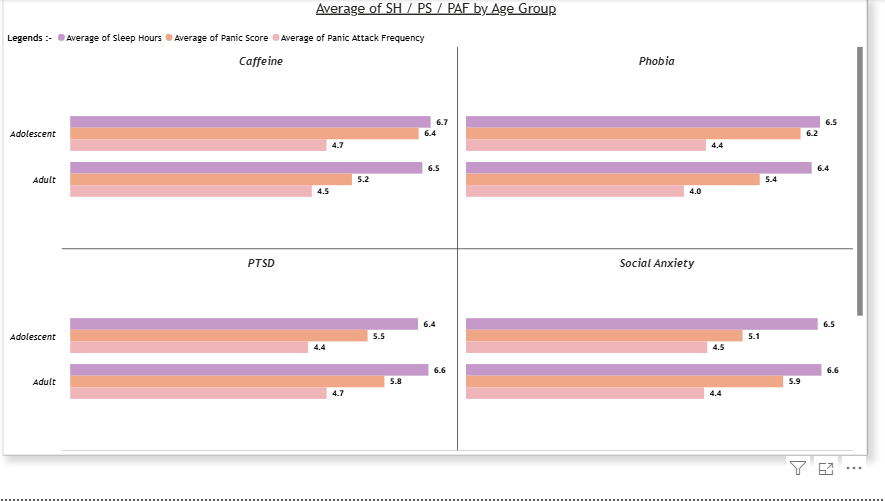

This screenshot's page, from the dashboard's own definition file:
{"tool":"powerbi","page":{"name":"Age Group Analysis","canvas":[1280,720],"ordinal":3},"visuals":[{"type":"clusteredBarChart","title":"Average of SH / PS / PAF by Age Group","fields":{"Category":["PANIC_ATTACK_DATA.Age Group IF"],"Rows":["PANIC_ATTACK_DATA.TRIGGER_REASON"],"Y":["Avg(PANIC_ATTACK_DATA.SLEEP_HOURS)","Avg(PANIC_ATTACK_DATA.PANIC_SCORE)","Avg(PANIC_ATTACK_DATA.PANIC_ATTACK_FREQUENCY)"]},"box":[9.8,0,1244.9,657],"z":0}]}

Visuals, with their boxes in screenshot pixels (x1, y1, x2, y2), scaled from the page's 1280x720 canvas onto the 885x501 screenshot:
"Average of SH / PS / PAF by Age Group" clusteredBarChart: box(7, 0, 868, 457)
